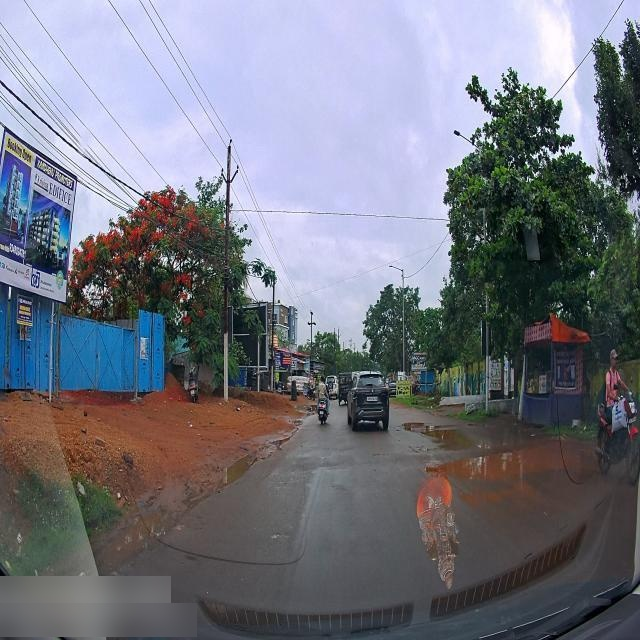pothole: (442, 447, 574, 482), (404, 418, 460, 441), (227, 451, 260, 481), (459, 494, 522, 504)
